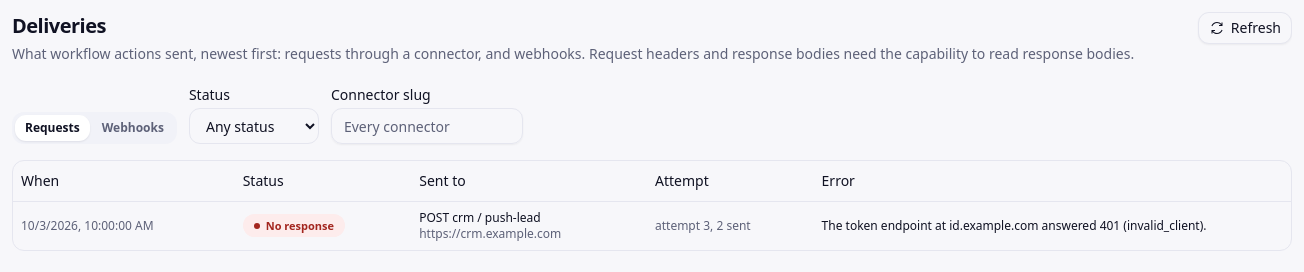
the deliveries screen › switches to webhook deliveries and shows a body the caller may read
Expected: the text "POST crm / push-lead" is shown, [419, 208, 541, 226]
Click the radio button labelled "Webhooks" at (133, 128), box [92, 115, 174, 141]
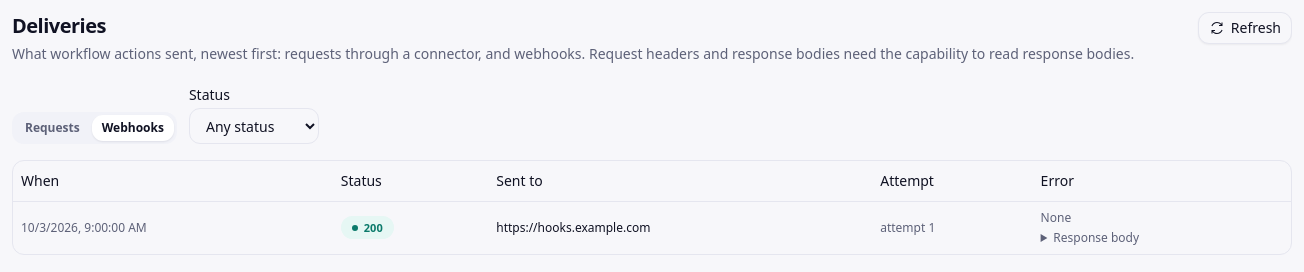
Expected: the text "https://hooks.example.com" is shown, [496, 218, 650, 236]
Expected: the text "POST crm / push-lead" is gone
